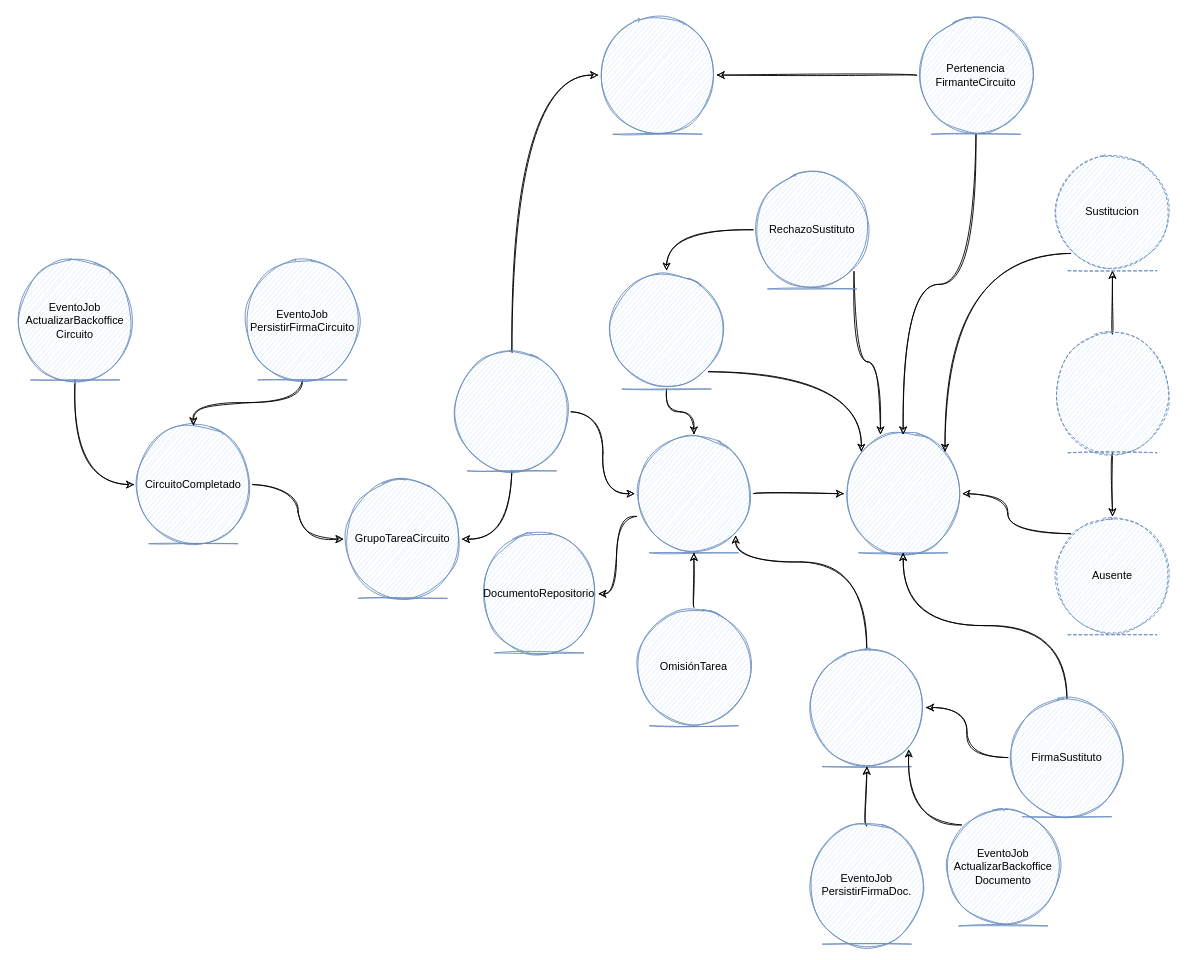
This 1188x960 diagram has some shape labels left out. Here are the shapes that lost their labels. From the top down, the box of each, then its label:
(597, 15, 717, 134): Circuito
(607, 270, 726, 389): DocumentoRechazado
(452, 352, 571, 471): Pertenencia TareaFirmaCircuito
(1052, 334, 1172, 453): Ausencia
(634, 434, 753, 553): TareaFirma
(843, 434, 962, 553): Firmante
(807, 647, 926, 767): DocumentoFirmado
